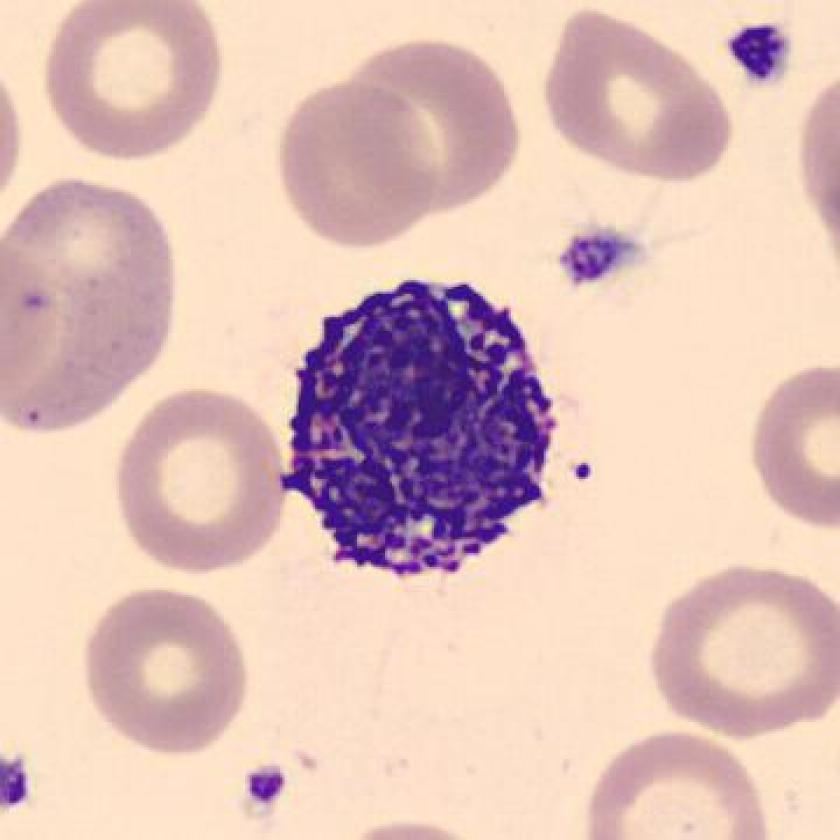basophil: (281, 265, 563, 593)
